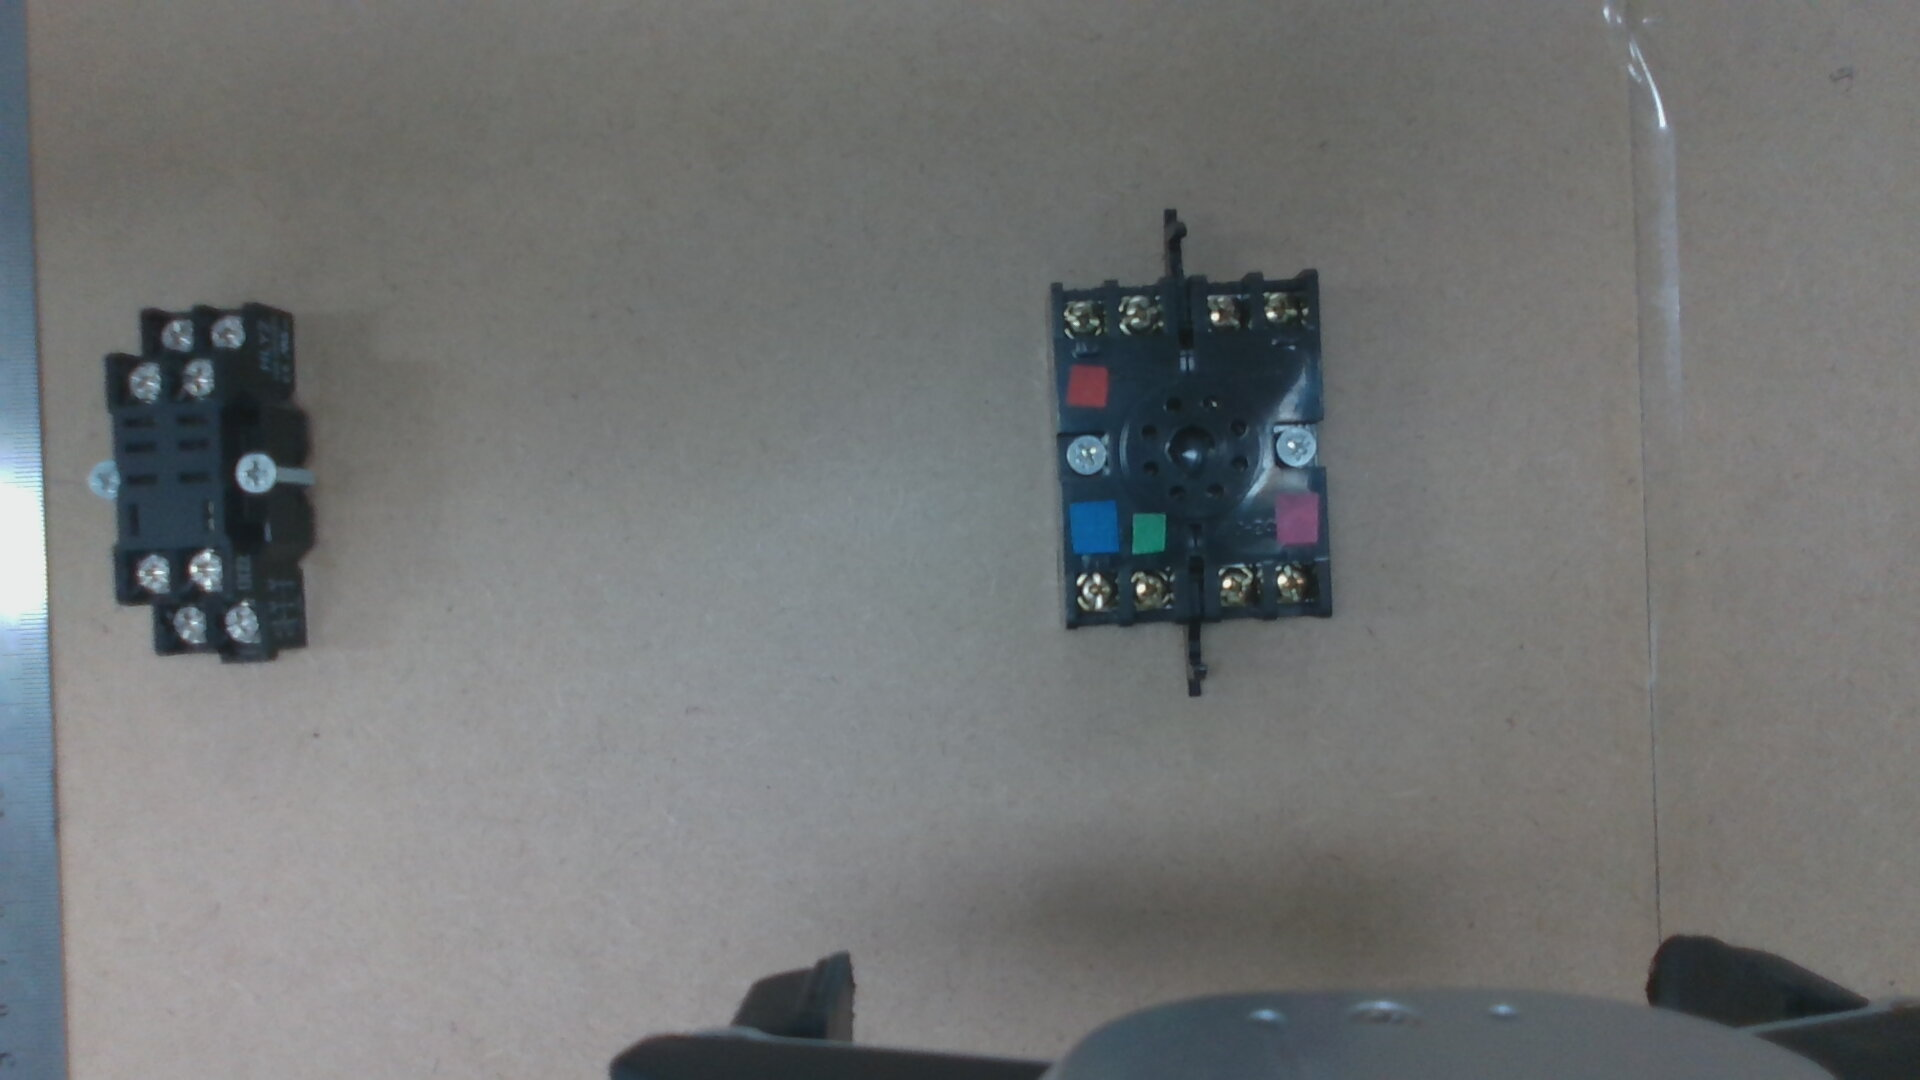timer 2: (1276, 563, 1313, 600)
timer 6: (1060, 301, 1102, 334)
timer 7: (1073, 574, 1116, 609)
timer 8: (1131, 571, 1172, 605)
